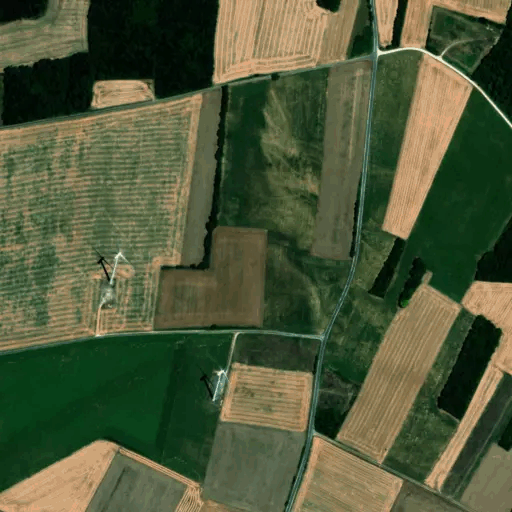wt: (81, 241, 136, 302), (191, 357, 235, 409)
